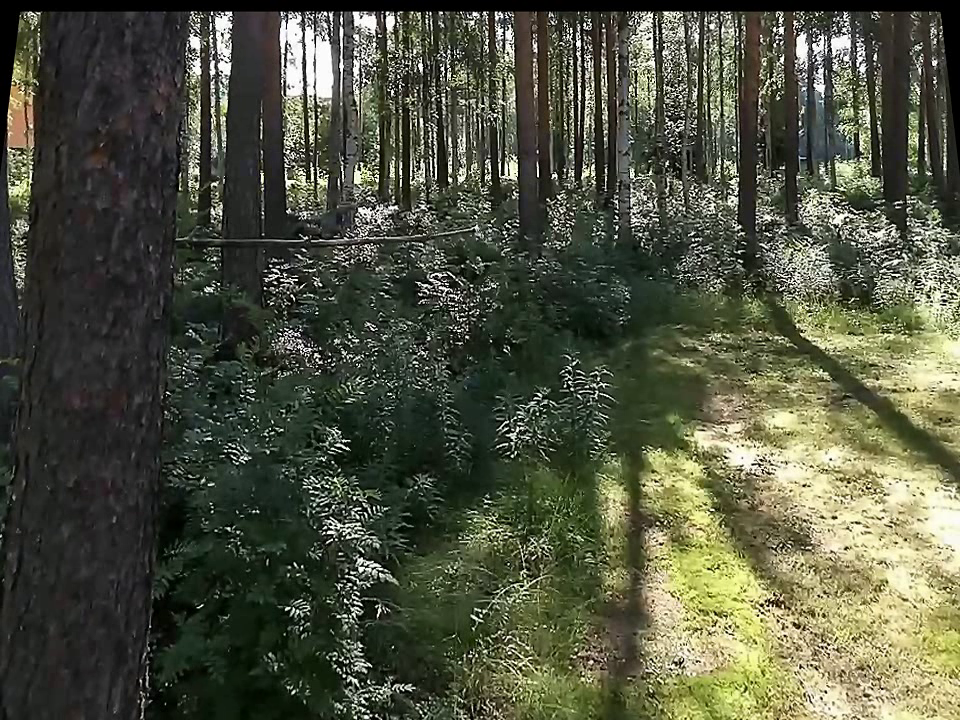branch: (181, 221, 464, 257)
